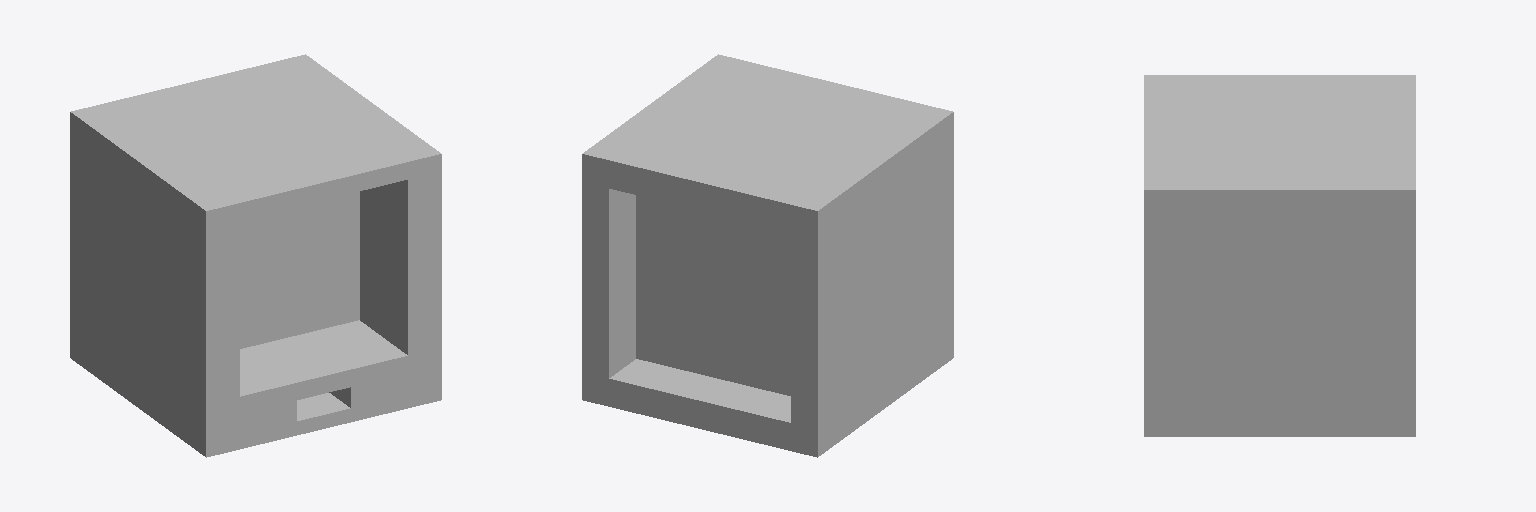
The model's file is main_box.obj.
The picture shows the model from 3 angles: view 1: azimuth 30°, elevation 25°; view 2: azimuth 150°, elevation 25°; view 3: azimuth 270°, elevation 25°; orthographic projection.
Visible parts, largest first — view 1: Incredible_Jofo(1).003; view 2: Incredible_Jofo(1).003; view 3: Incredible_Jofo(1).003.
Part boxes in pixels (x1,y1,x2,y2): Incredible_Jofo(1).003: (70,54,441,457); Incredible_Jofo(1).003: (582,54,953,457); Incredible_Jofo(1).003: (1144,75,1415,436).
Bounding box in the file's own units: 0.7 × 0.7 × 0.7.